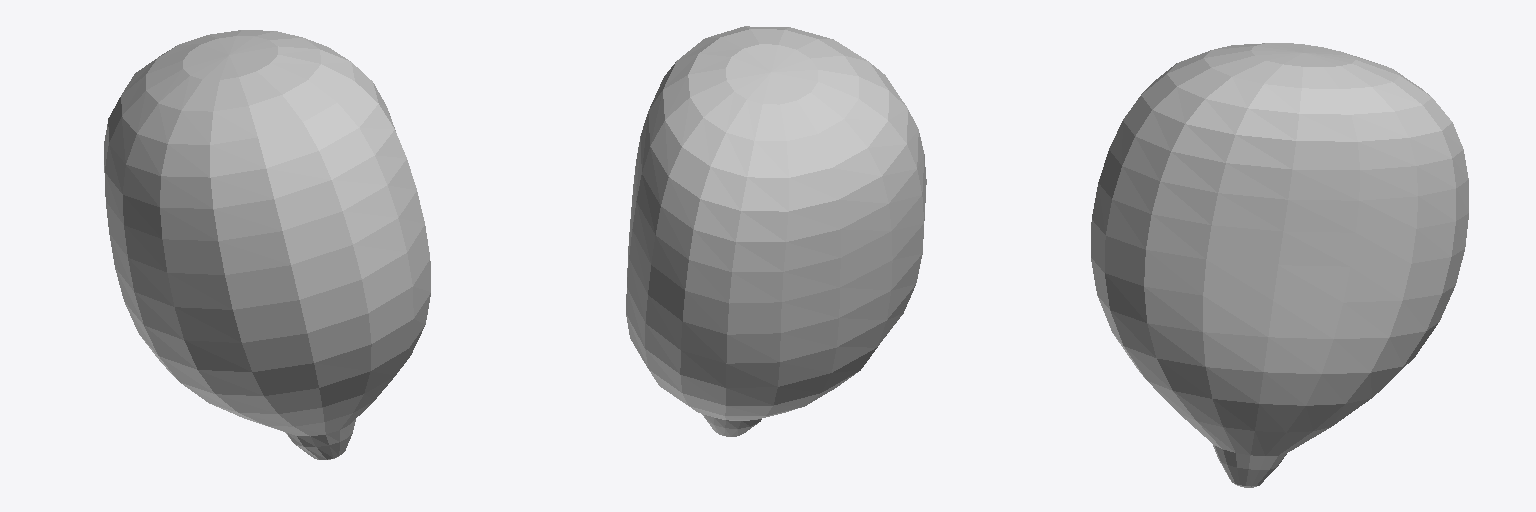
Rendered from pone-boob.obj.
3 views of the same model, side by side, from view 1: azimuth 30°, elevation 25°; view 2: azimuth 150°, elevation 25°; view 3: azimuth 270°, elevation 25° (orthographic).
Visible parts, largest first — view 1: Sphere.004, Sphere.007; view 2: Sphere.004, Sphere.007; view 3: Sphere.004, Sphere.007.
Part boxes in pixels (x1,y1,x2,y2): Sphere.004: (104,30,430,436); Sphere.007: (285,419,355,459); Sphere.004: (626,26,926,420); Sphere.007: (702,414,761,436); Sphere.004: (1091,43,1468,455); Sphere.007: (1213,445,1286,487).
Size of the model in its own units: 6.78 by 10.27 by 8.68.